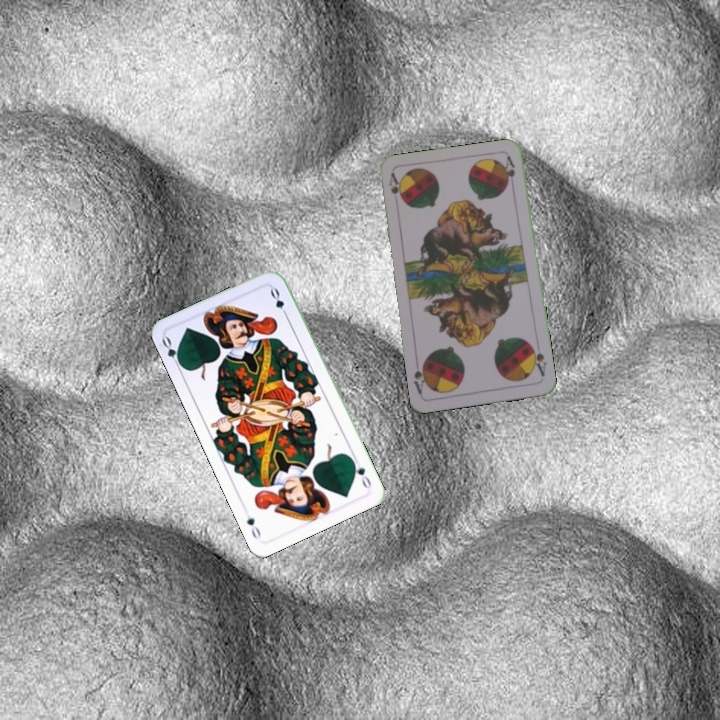GO: (158, 333, 185, 372), (347, 453, 374, 491)
SA: (527, 340, 549, 379), (384, 169, 404, 203)
